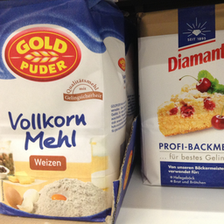flour: (1, 1, 130, 221), (139, 7, 224, 186)
